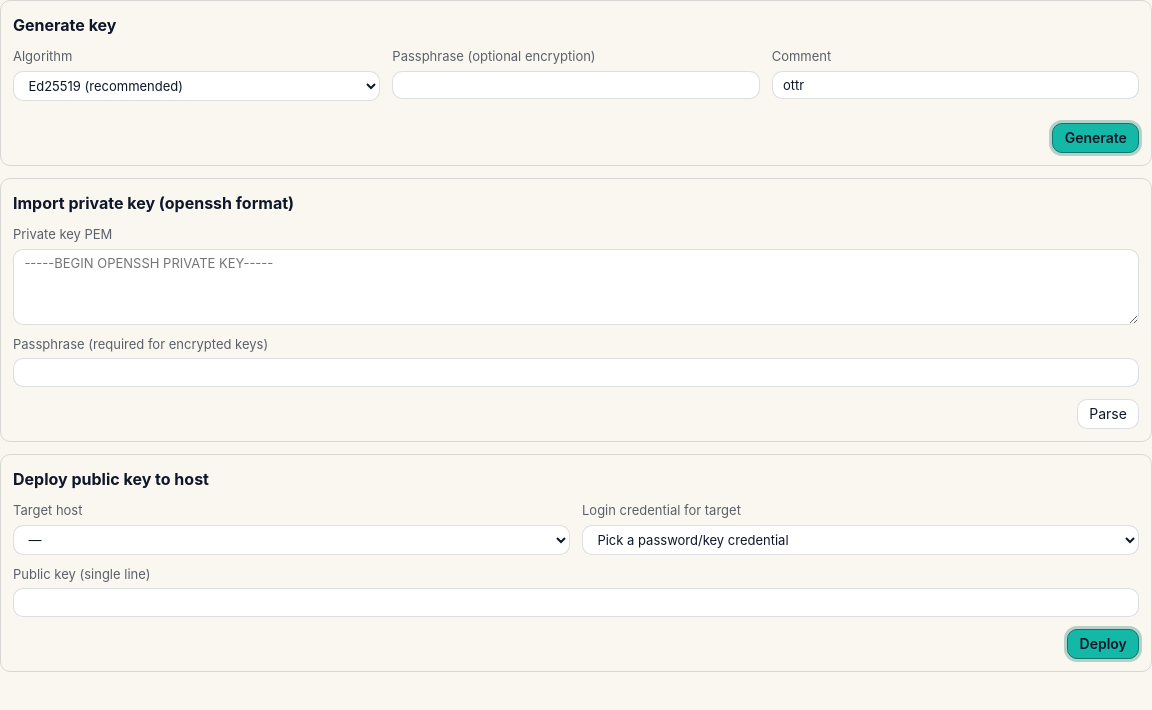
it: KeyManager › 生成：key_generate 收到 algorithm/passphrase/comment，结果展示指纹与公钥
Click the button with test id "km-generate" at x=1096, y=138, box [1052,123,1139,153]
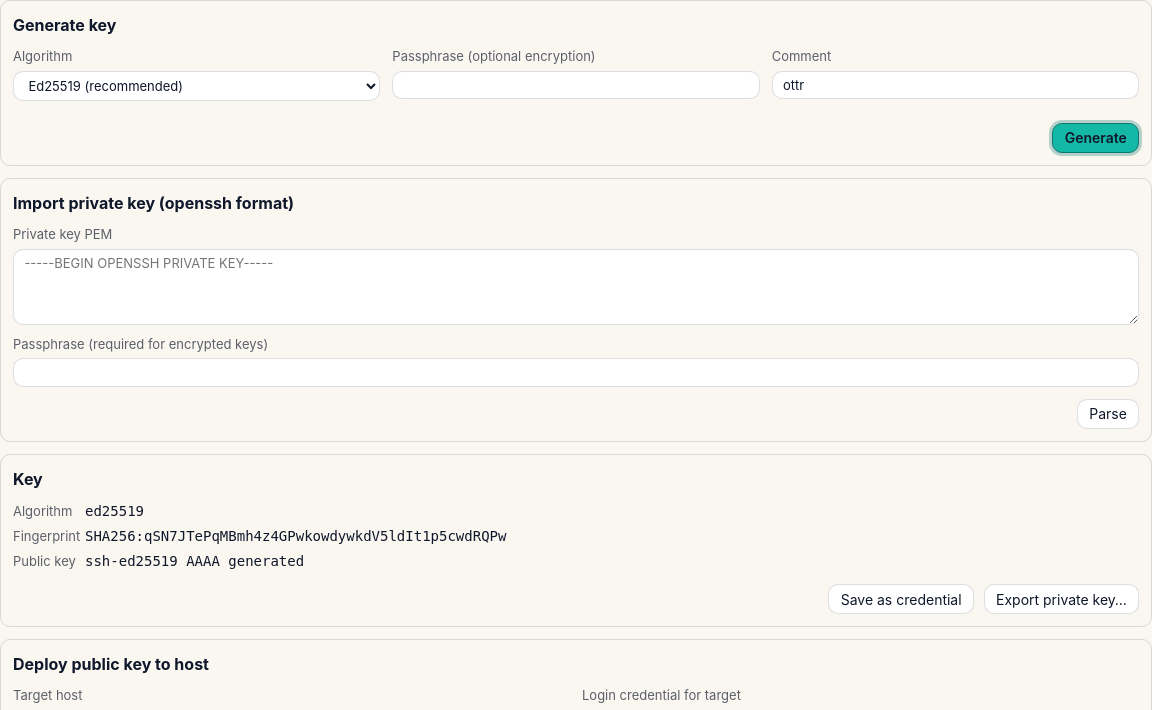
Check: the text with test id "km-fingerprint" reads "SHA256:qSN7JTePqMBmh4z4GPwkowdywkdV5ldIt1p5cwdRQPw", box [85,528,506,544]
Check: the text with test id "km-public-key" reads "ssh-ed25519 AAAA generated", box [85,553,304,569]
